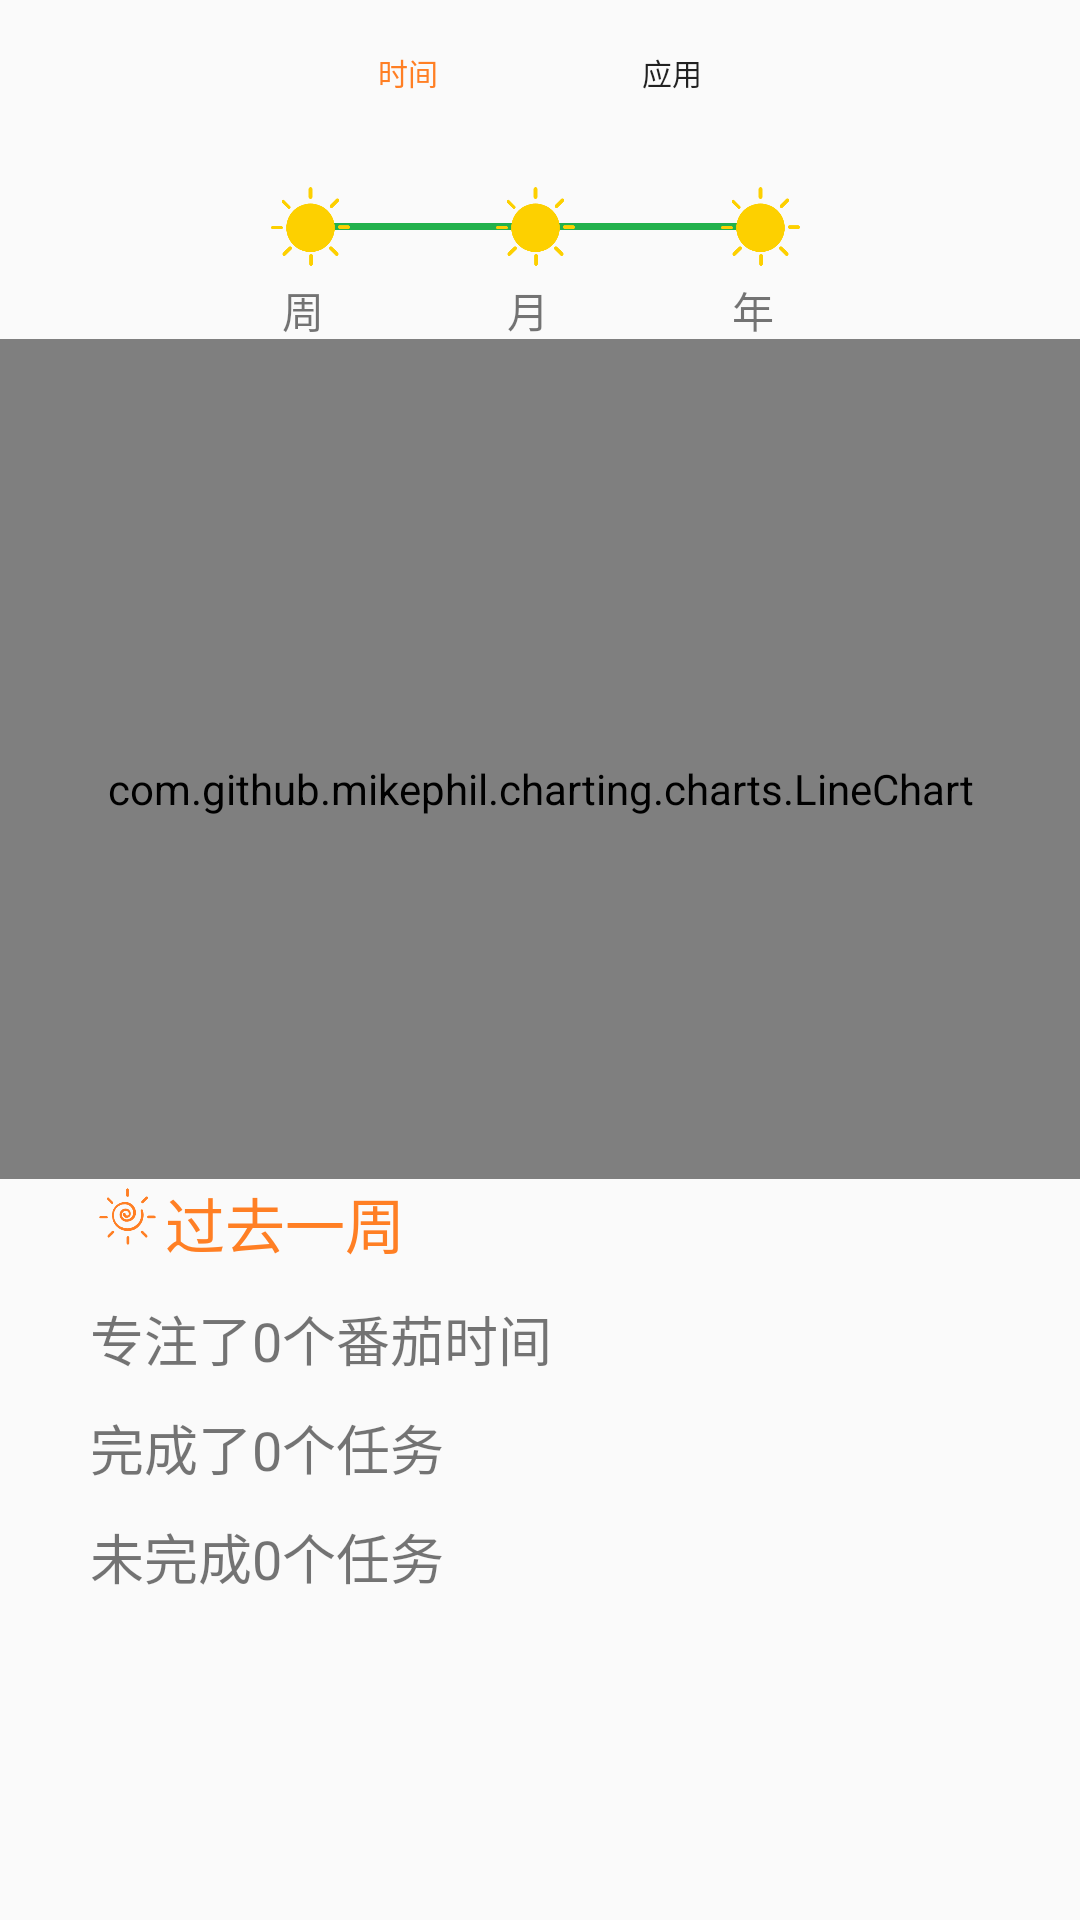

Icon click points for this 1080 × 1920 phone screenshot, format point (x, y):
sun: point (317, 226), point (535, 226), point (754, 226), point (127, 1216)
